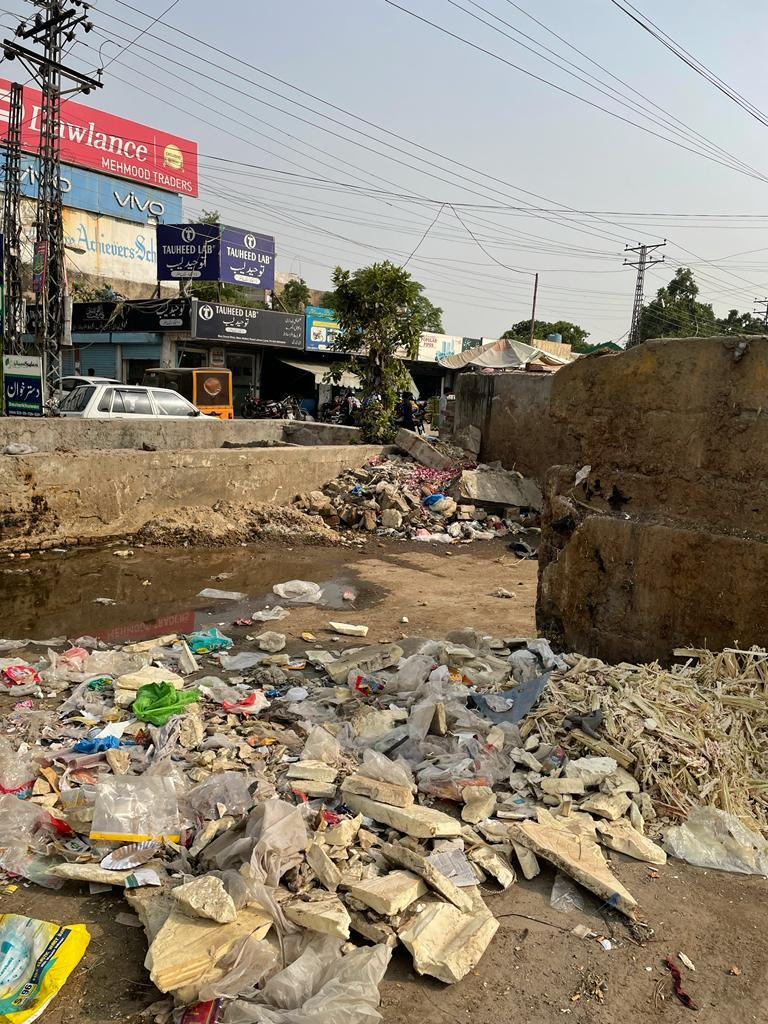garbage: (9, 628, 647, 991), (341, 404, 536, 554)
